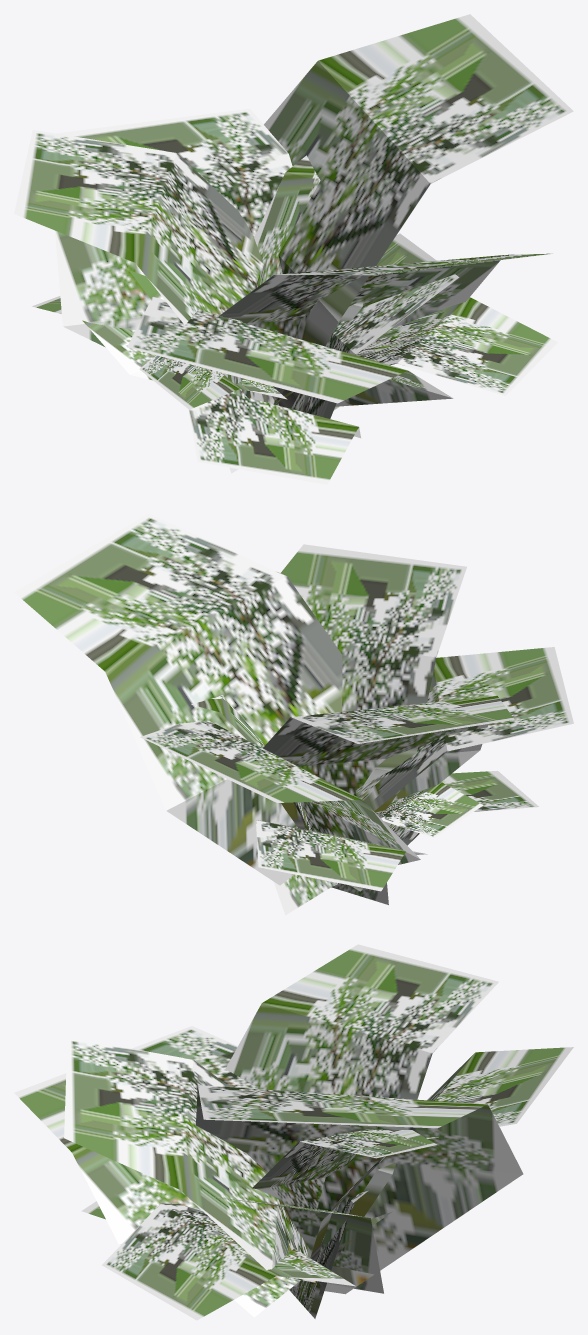
File: Planter_009.fbx
3 renders of one model, top to bottom at view 1: azimuth 30°, elevation 25°; view 2: azimuth 150°, elevation 25°; view 3: azimuth 270°, elevation 25°, orthographic. The views are drawn at different scales.
Parts seen in each view (by area): view 1: Planters_009; view 2: Planters_009; view 3: Planters_009.
Part boxes in pixels (x1,y1,x2,y2): Planters_009: (14, 14, 573, 484); Planters_009: (14, 513, 573, 915); Planters_009: (14, 944, 573, 1320).
Size of the model in its own units: 151 by 92.72 by 157.
